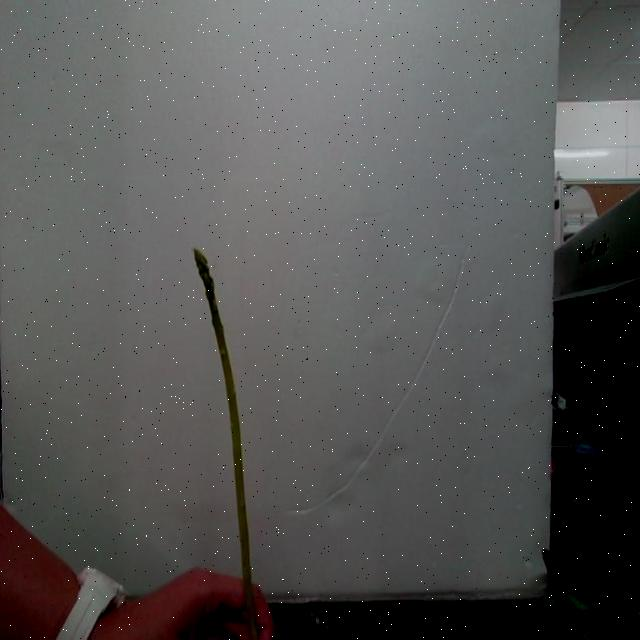aspargus: (194, 251, 263, 640)
